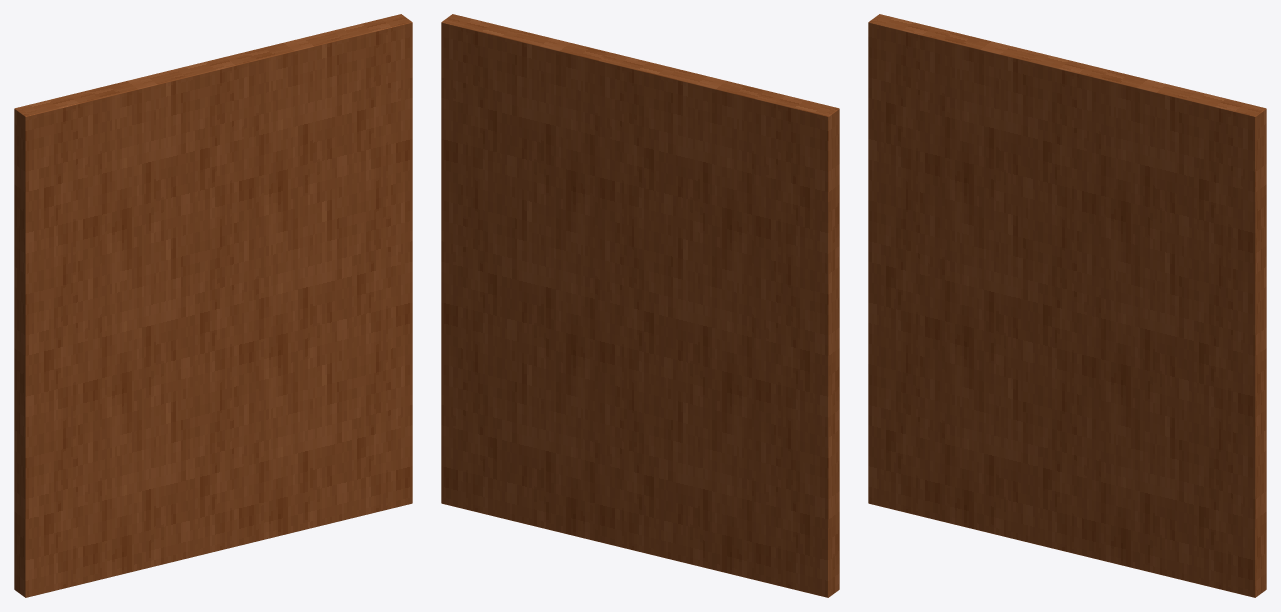
The model's file is Niche-Back.glb.
3 views of the same model, side by side, from view 1: azimuth 30°, elevation 25°; view 2: azimuth 150°, elevation 25°; view 3: azimuth 330°, elevation 25° (orthographic).
Visible parts, largest first — view 1: Niche-Back; view 2: Niche-Back; view 3: Niche-Back.
Boxes of the visible parts, x1=… form: Niche-Back: x1=14, y1=14, x2=412, y2=597; Niche-Back: x1=441, y1=14, x2=839, y2=597; Niche-Back: x1=868, y1=14, x2=1266, y2=597.
Size of the model in its own units: 3.1 by 3.68 by 0.16.
Materials: 1 (1 with a texture image).
